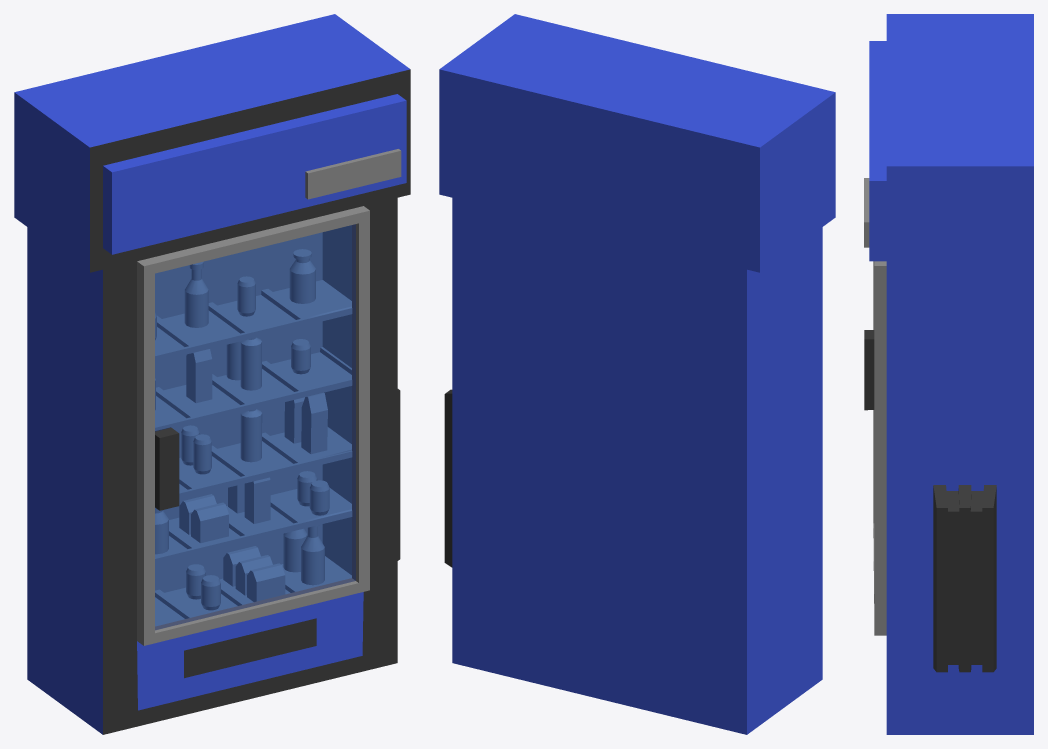
The model's file is Fridge.fbx.
3 views of the same model, side by side, from view 1: azimuth 30°, elevation 25°; view 2: azimuth 150°, elevation 25°; view 3: azimuth 270°, elevation 25° (orthographic). The views are drawn at different scales.
Parts seen in each view (by area): view 1: Fridge; view 2: Fridge; view 3: Fridge.
Part boxes in pixels (box(x1,y1,x2,y2)): Fridge: box(14, 14, 410, 734); Fridge: box(439, 14, 835, 734); Fridge: box(864, 14, 1033, 734).
Size of the model in its own units: 0.6432 by 1.43 by 2.4.
